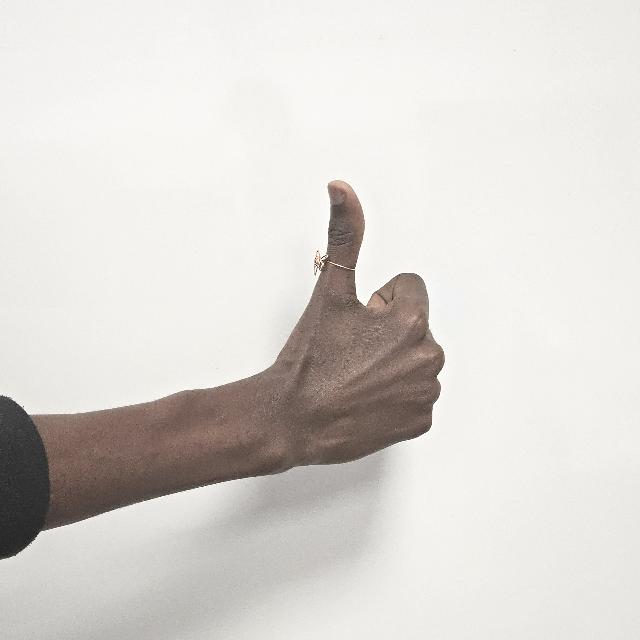Start: (242, 162, 464, 520)
